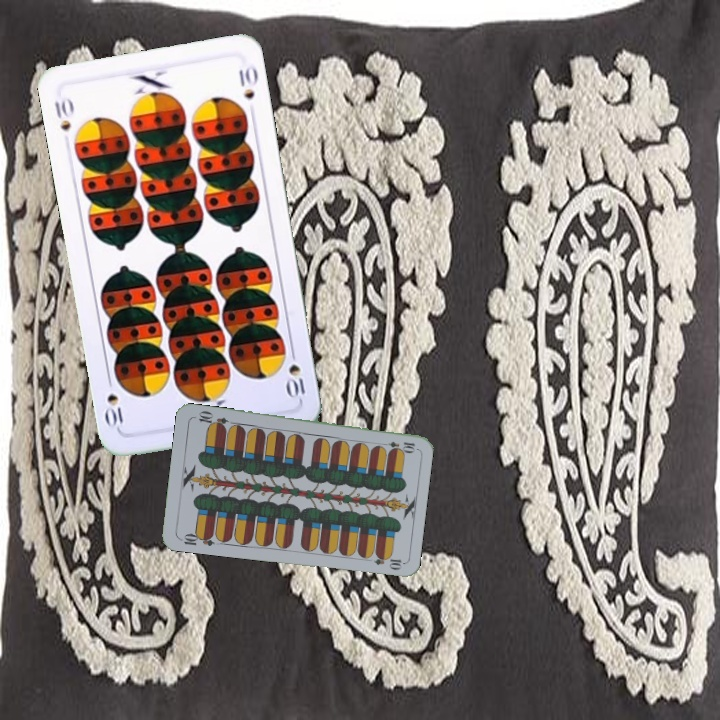E10: (176, 529, 216, 548), (377, 437, 417, 453)
S10: (283, 344, 308, 402), (50, 94, 76, 134)
